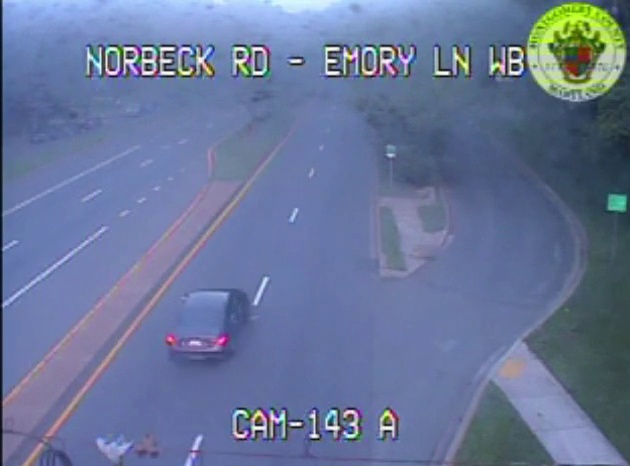car: (166, 289, 247, 358)
